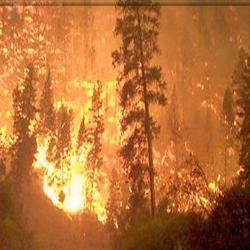fire: (47, 164, 88, 211)
